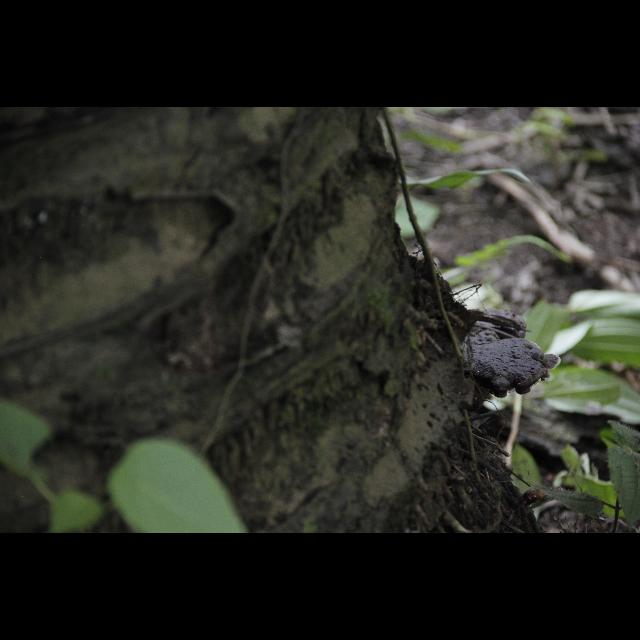ganoderma: (464, 337, 563, 401)
